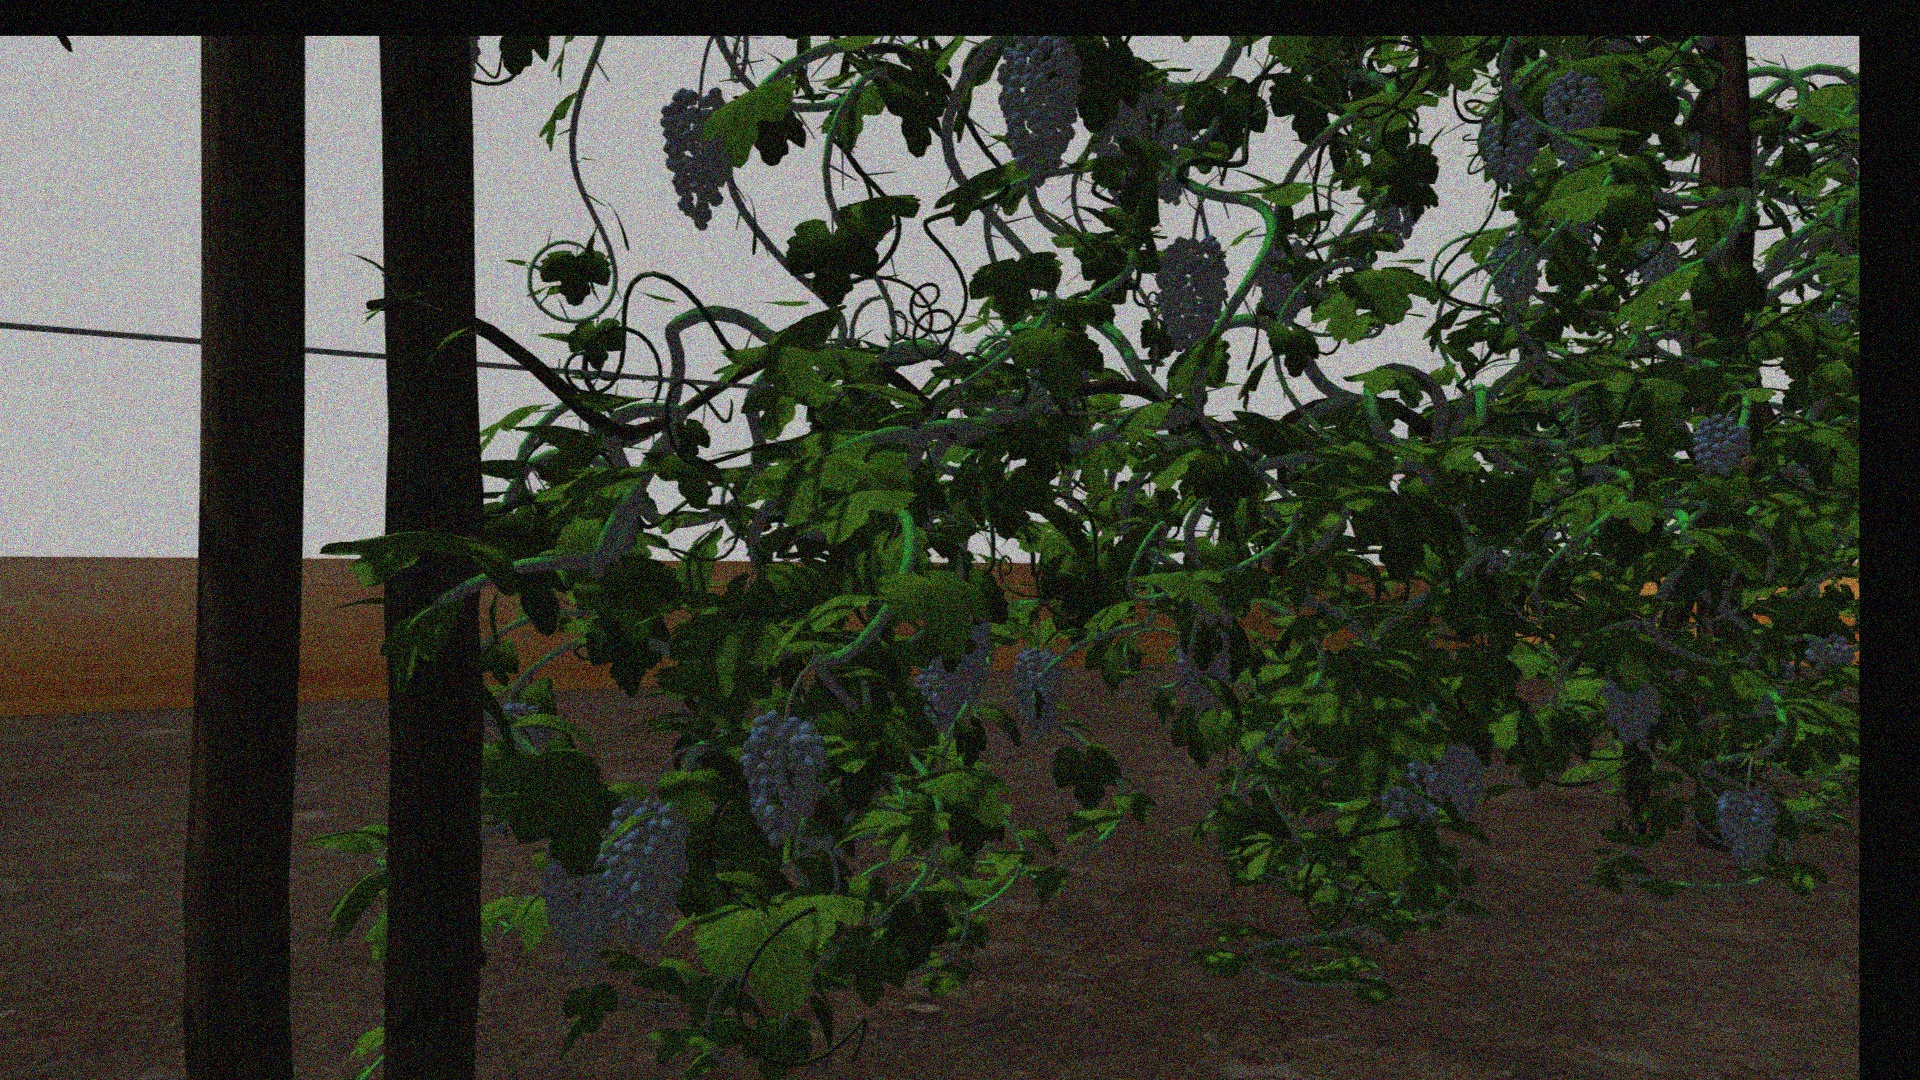grape: (738, 705, 833, 851), (600, 804, 691, 948), (659, 88, 744, 228), (1000, 44, 1084, 183), (541, 856, 618, 976), (1155, 233, 1232, 355), (918, 618, 996, 729), (1175, 608, 1240, 716), (1543, 73, 1609, 164), (1716, 786, 1782, 876), (1604, 669, 1664, 756), (1253, 236, 1313, 320), (1480, 233, 1545, 306), (1476, 113, 1542, 185), (1015, 649, 1065, 738), (1436, 733, 1489, 816), (1381, 758, 1443, 825), (1693, 410, 1751, 476), (1807, 634, 1854, 676)
